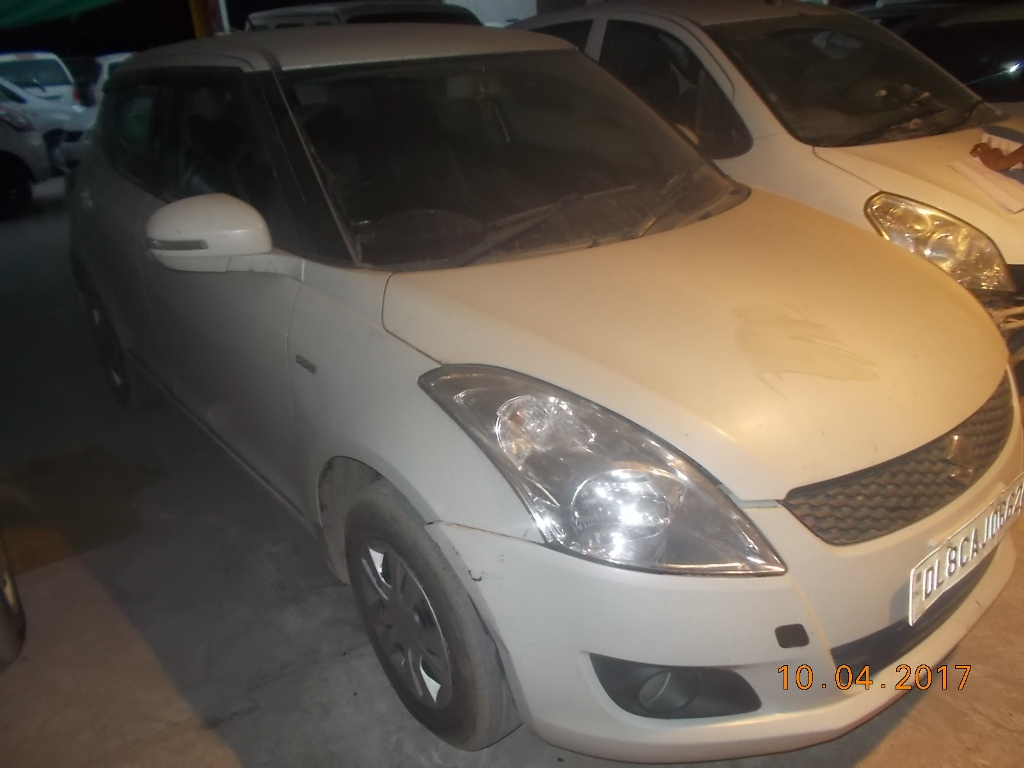Tear: (683, 320, 710, 374), (714, 315, 736, 334)
